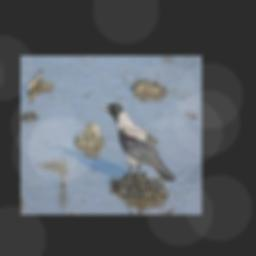Crow: (99, 102, 176, 182)
